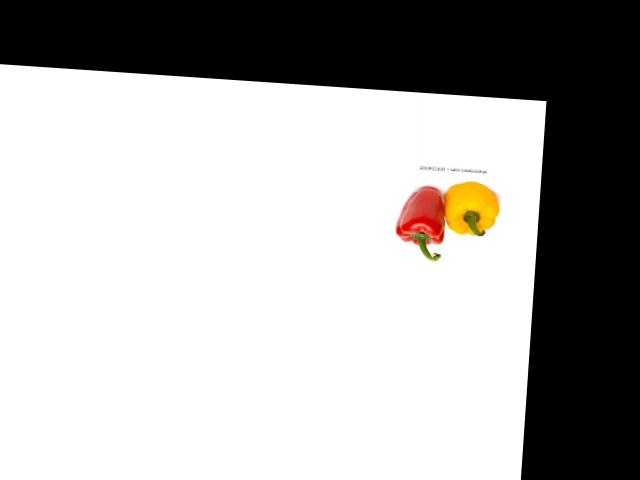bell_pepper: (439, 175, 503, 242)
